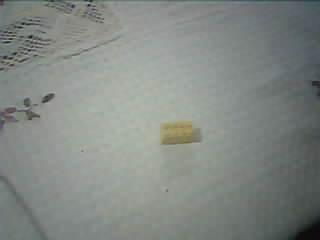lego: (158, 121, 195, 144)
